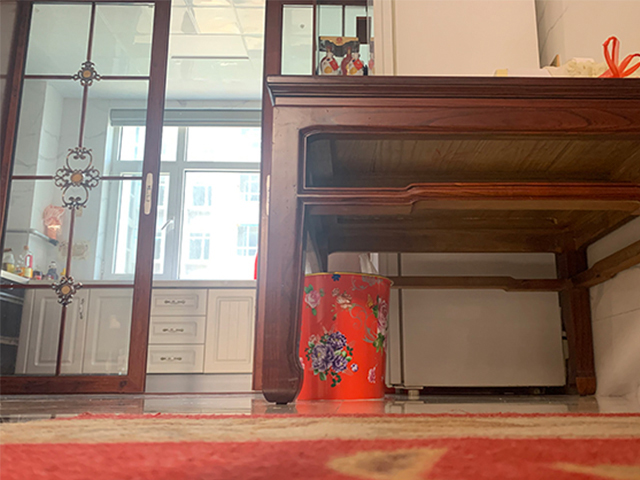cabinet: (29, 279, 253, 394)
carpet: (1, 411, 640, 480)
table: (258, 73, 640, 405)
trashcan: (294, 272, 394, 408)
